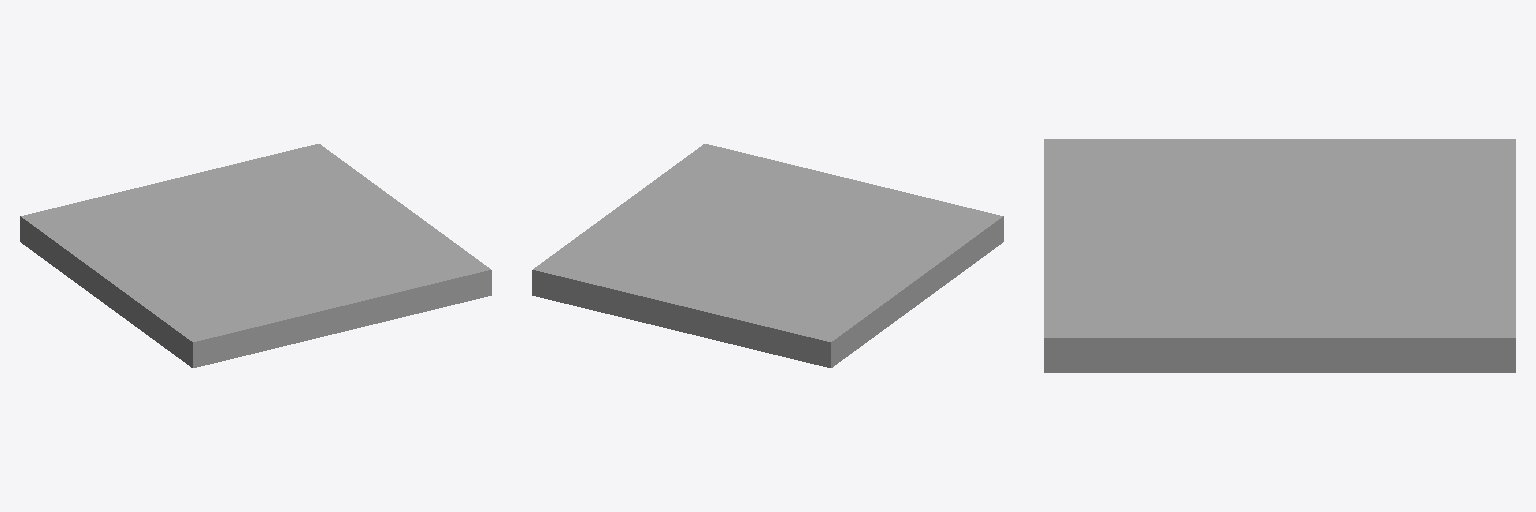
URDF robot description (tile_60_60_5):
<?xml version='1.0' encoding='utf-8'?>
<robot name="tile_60_60_5">
  <link name="base_link">
    <inertial>
      <origin xyz="0.0 0.0 0.0" rpy="0 0 0" />
      <mass value="1" />
      <inertia ixx="0.001" ixy="0" ixz="0" iyy="0.001" iyz="0" izz="0.001" />
    </inertial>
    <visual>
      <origin xyz="0 0 0" rpy="0 0 0" />
      <geometry>
        <mesh filename="package://tile_60_60_5/meshes/tile_60_60_5.stl" scale="1 1 1" />
      </geometry>
      <material name="grey">
        <color rgba="0.7 0.7 0.7 1.0" />
      </material>
    </visual>
    <collision>
      <origin xyz="0 0 0" rpy="0 0 0" />
      <geometry>
        <mesh filename="package://tile_60_60_5/meshes/tile_60_60_5.stl" scale="1 1 1" />
      </geometry>
    </collision>
  </link>
</robot>

--- What the picture shows (computed from the rendered views, not written in the file) ---
3 views of the same robot in one strip: view 1: azimuth 30°, elevation 25°; view 2: azimuth 150°, elevation 25°; view 3: azimuth 270°, elevation 25° (orthographic).
Robot: tile_60_60_5 — 1 links, 0 joints (none); root link base_link; default pose: all joints at 0.
Visible links, largest first — view 1: base_link; view 2: base_link; view 3: base_link.
Boxes of the visible links, bbox=[...] form: base_link: bbox=[20, 144, 491, 367]; base_link: bbox=[532, 144, 1003, 367]; base_link: bbox=[1044, 139, 1515, 372].
Size in the robot's own frame: 0.6 by 0.6 by 0.05 metres.
1 mesh visuals loaded from 1 distinct referenced files (1 binary STL).